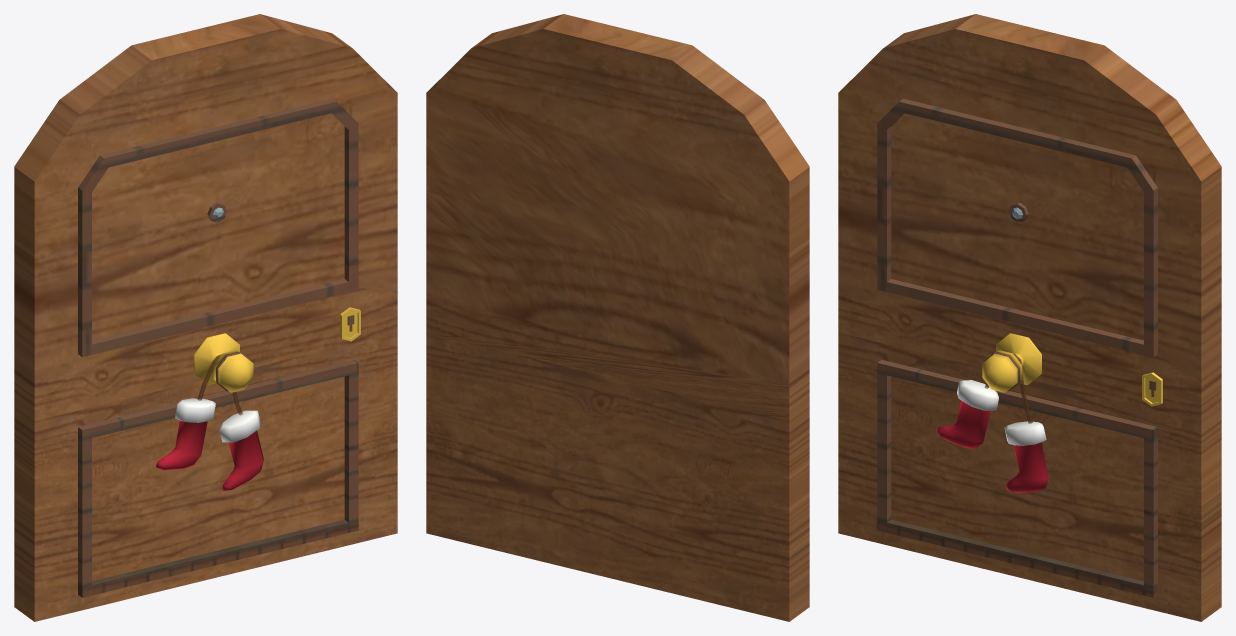
The model's file is pm-door.glb.
3 renders of one model, left to right at view 1: azimuth 30°, elevation 25°; view 2: azimuth 150°, elevation 25°; view 3: azimuth 330°, elevation 25°, orthographic.
Visible parts, largest first — view 1: Door, SockXmas_Art__1_.001; view 2: Door; view 3: Door, SockXmas_Art__1_.001.
Part boxes in pixels (x1=…): Door: x1=14, y1=14, x2=397, y2=621; SockXmas_Art__1_.001: x1=156, y1=354, x2=263, y2=491; Door: x1=426, y1=14, x2=809, y2=621; Door: x1=838, y1=14, x2=1221, y2=621; SockXmas_Art__1_.001: x1=937, y1=354, x2=1048, y2=492.
Size of the model in its own units: 4.33 by 6.08 by 0.9687.
2 materials, 2 textured.
